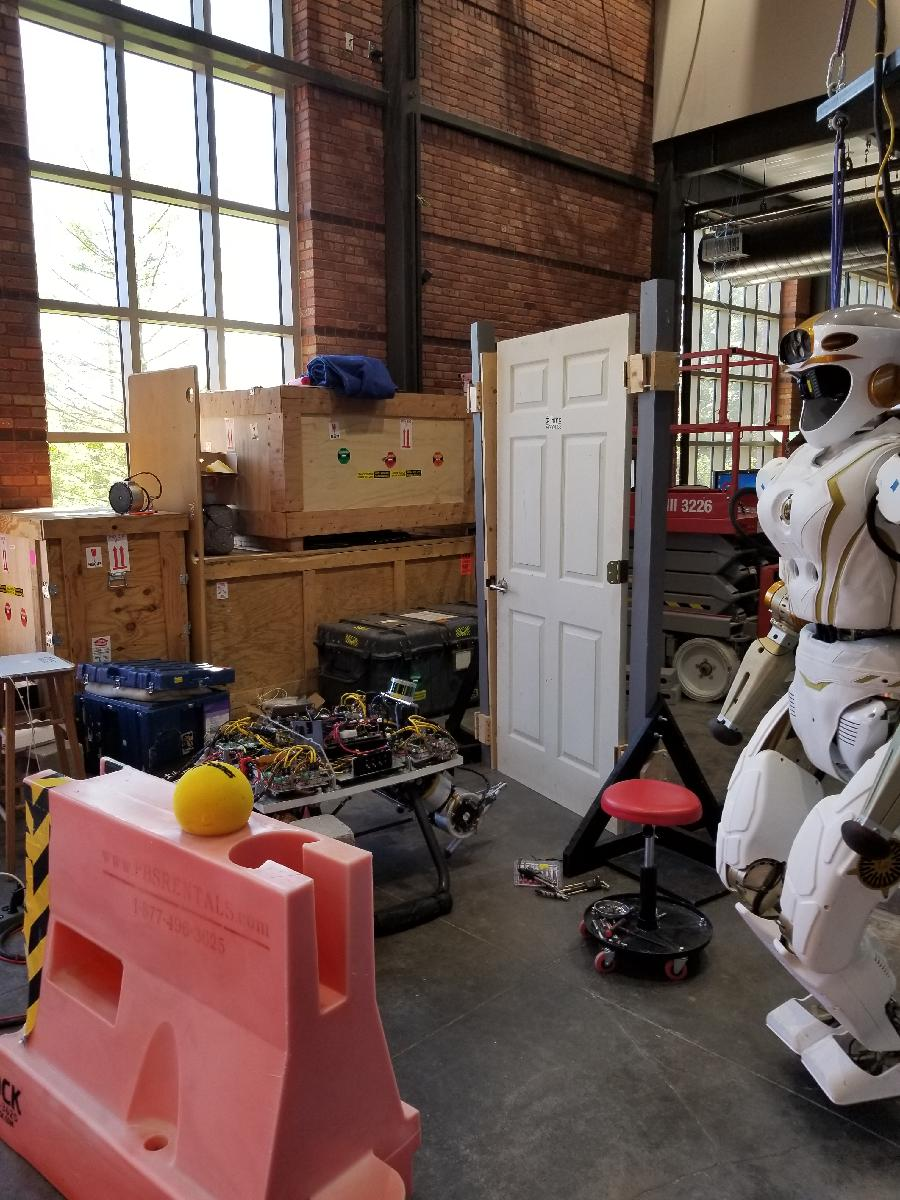door: (492, 308, 640, 845)
doorHandle: (489, 574, 512, 594)
